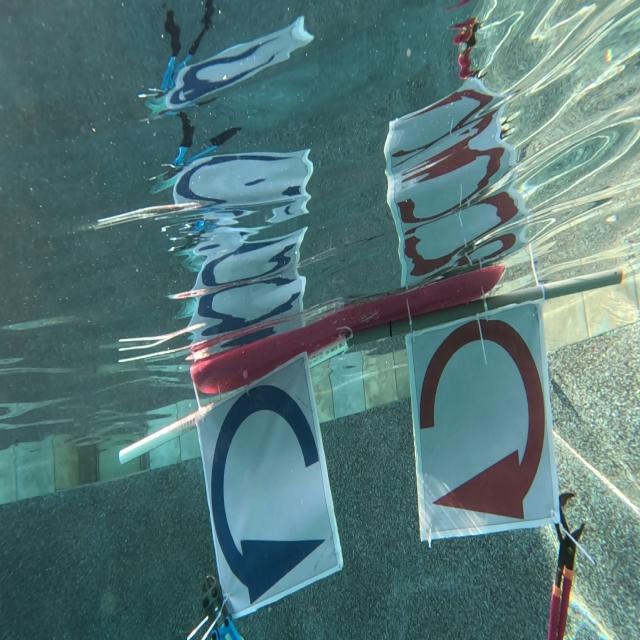blue_side: (204, 375, 322, 605)
red_side: (415, 322, 537, 526)
